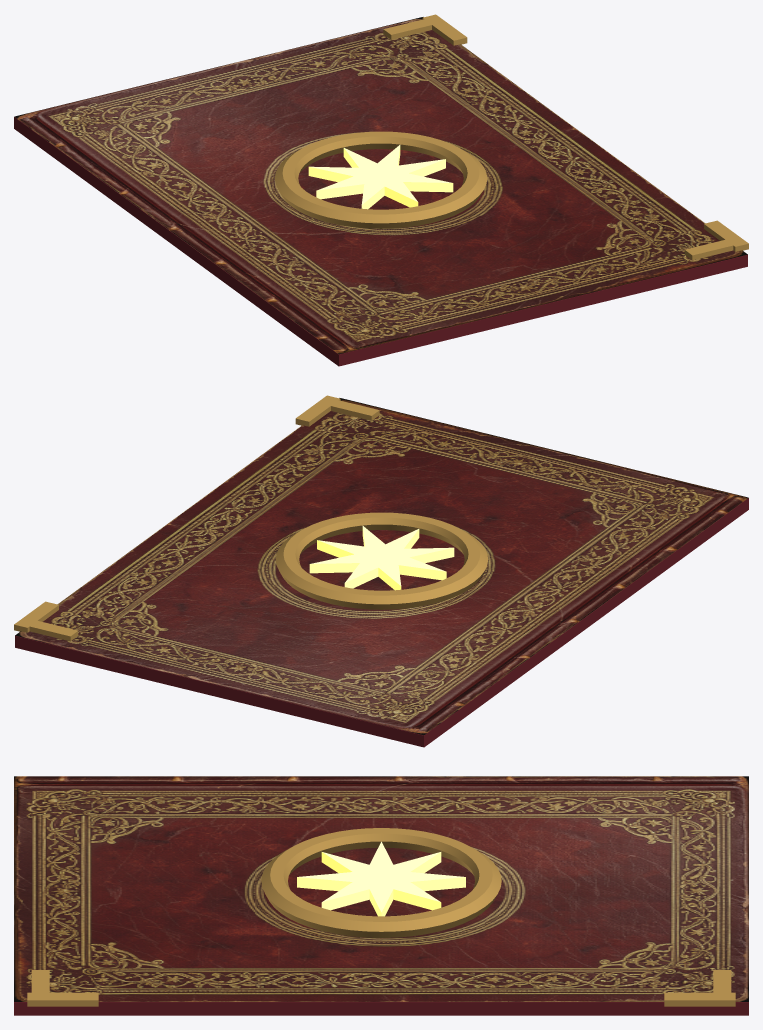
Rendered from sealed_book_cover.glb.
The picture shows the model from 3 angles, top to bottom: view 1: azimuth 30°, elevation 25°; view 2: azimuth 150°, elevation 25°; view 3: azimuth 270°, elevation 25°; orthographic projection. The views are drawn at different scales.
Parts seen in each view (by area): view 1: sealed_book_cover; view 2: sealed_book_cover; view 3: sealed_book_cover.
Part boxes in pixels (x1,y1,x2,y2): sealed_book_cover: [14, 14, 748, 366]; sealed_book_cover: [14, 395, 748, 747]; sealed_book_cover: [14, 776, 748, 1015].
Size of the model in its own units: 1.22 by 0.069 by 1.65.
4 materials, 1 textured.
